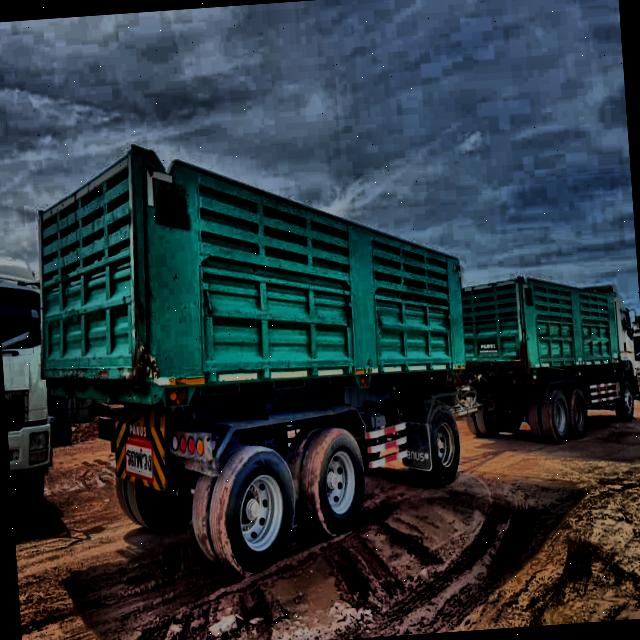trailer: (16, 99, 640, 594)
